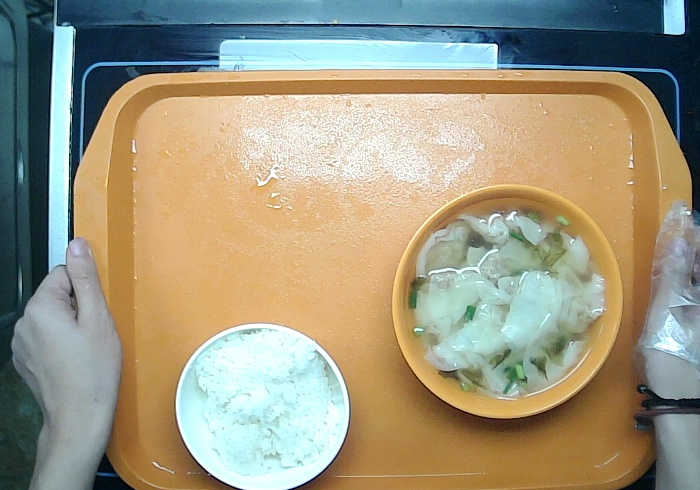NLDX-Fan_Wan: (170, 321, 352, 490)
NLDX-Hun_Tun_Wan: (389, 181, 626, 423)
